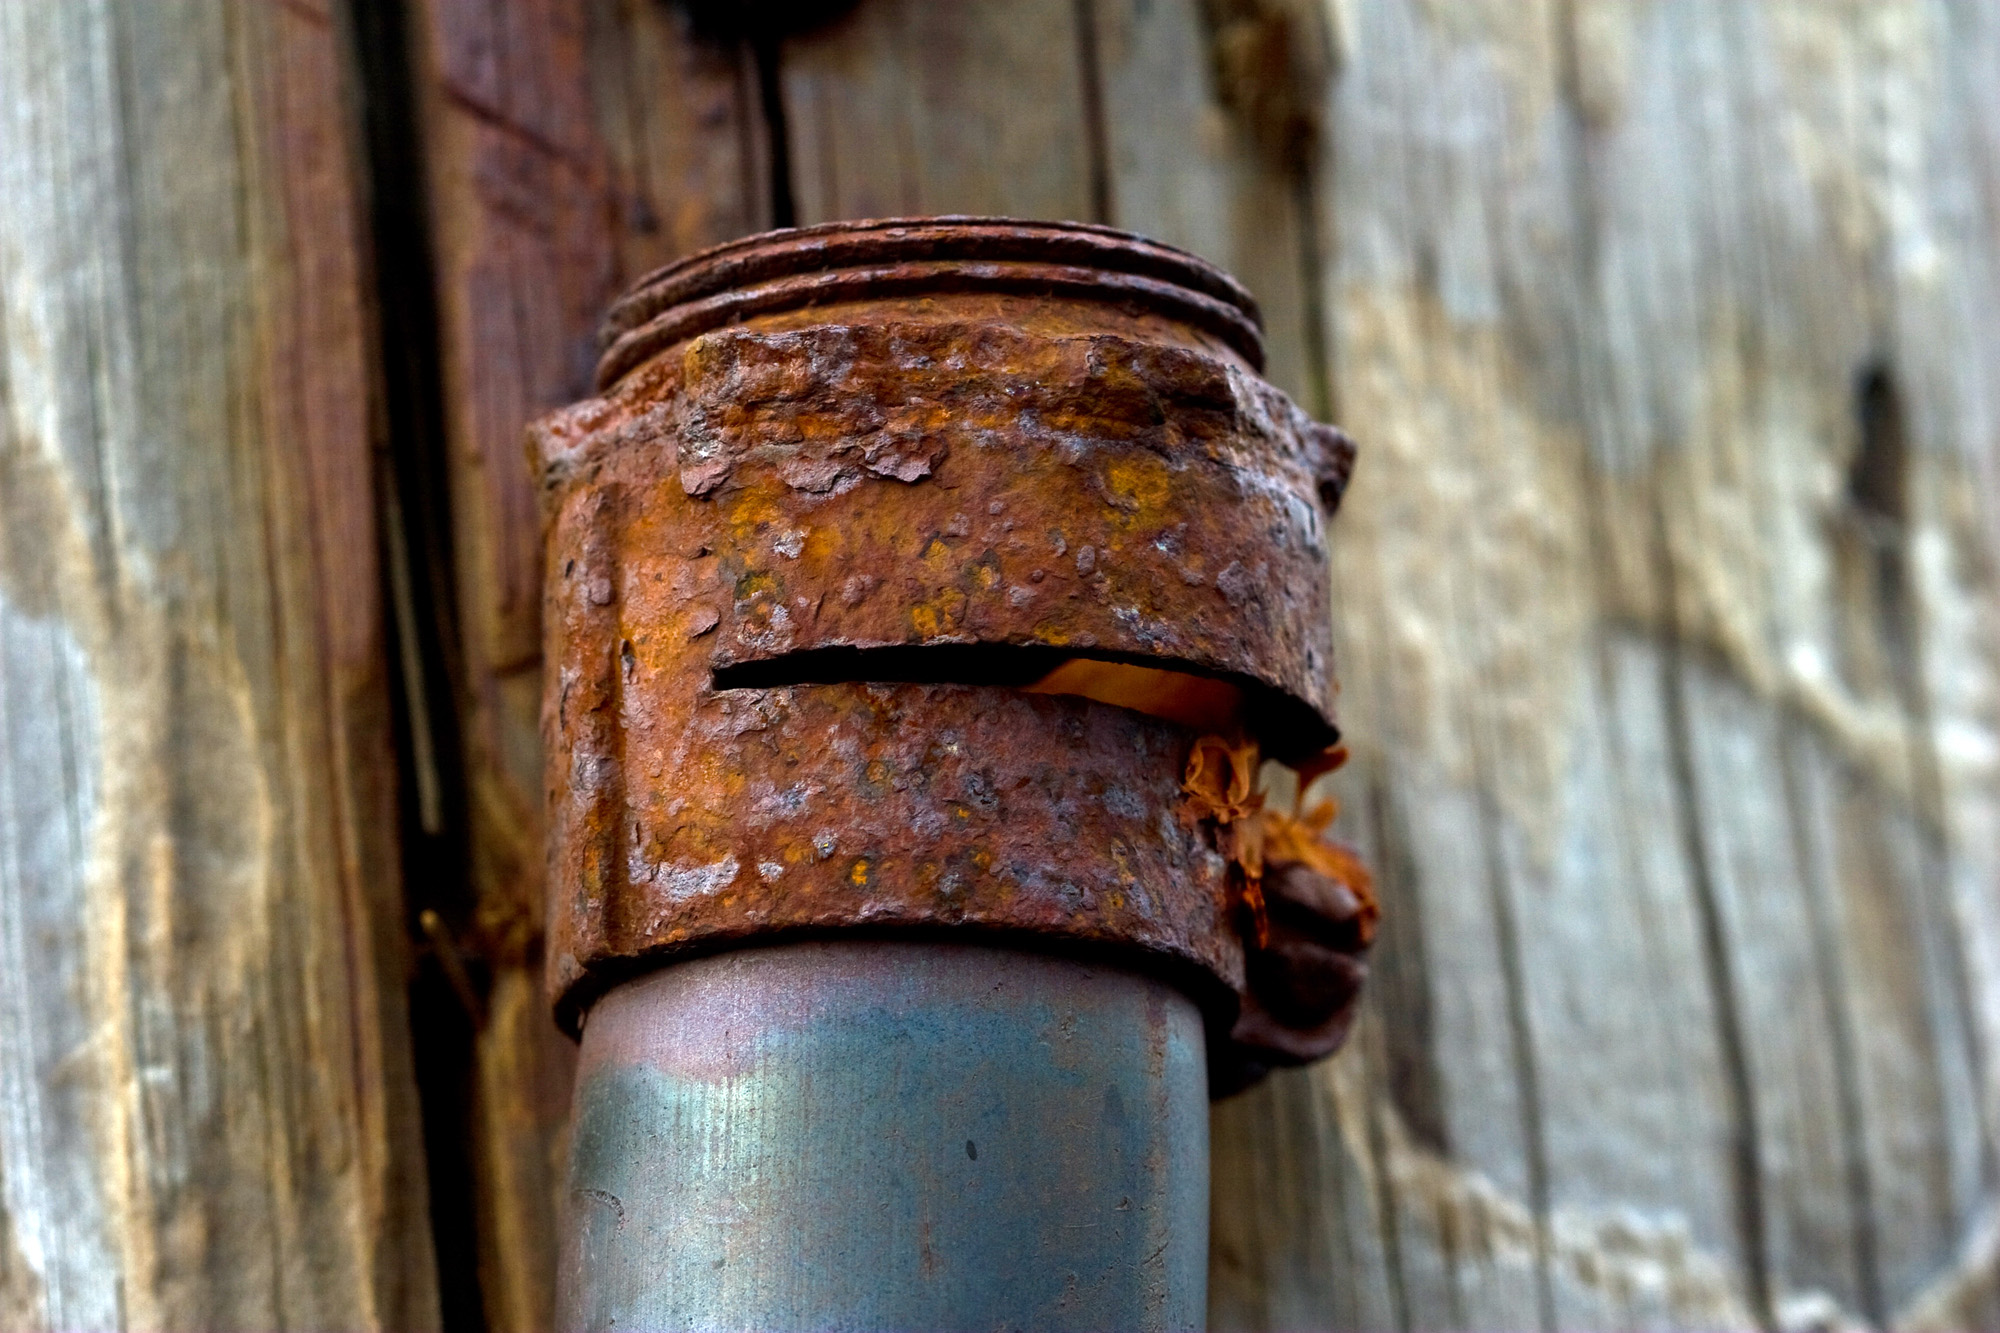Severe: (483, 205, 1390, 1009)
